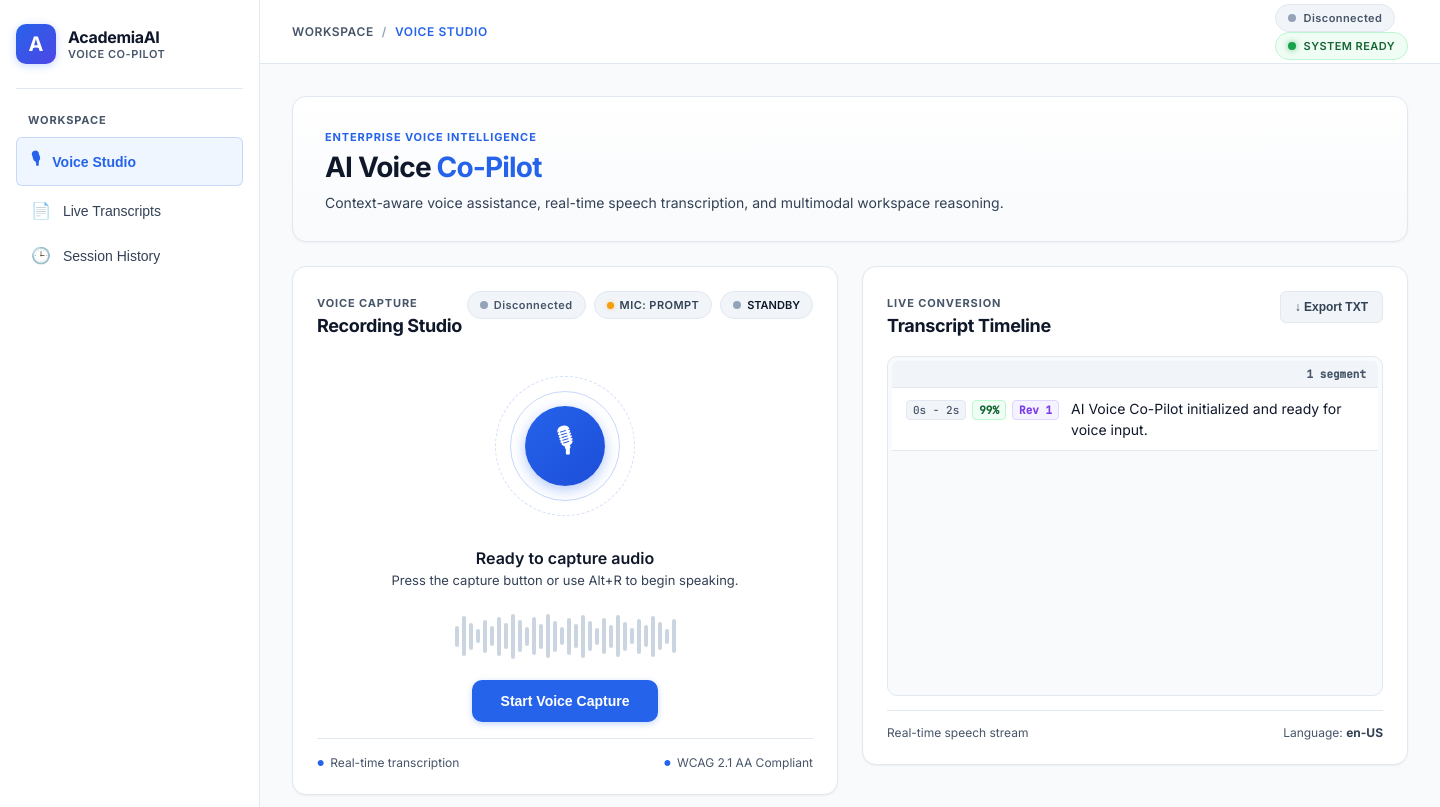
App Component › ignores workflow.step events belonging to a different plan_id
Click the button "Start Voice Capture" at (565, 701), box [472,680,658,722]
(page scrolled)
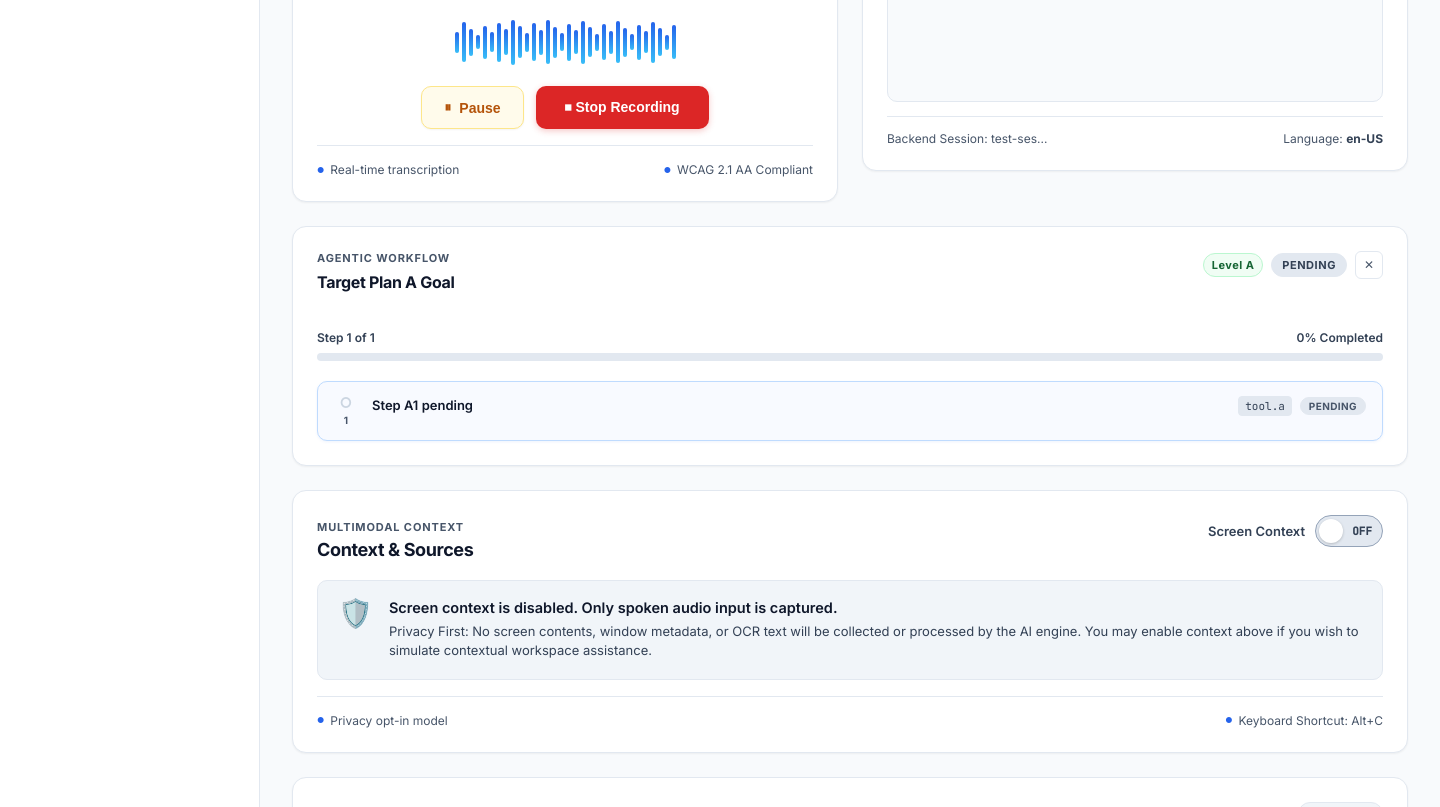
Now the heading "Target Plan A Goal" is shown, box [317,271,454,294]
Now the message named "Step 1 status: pending" is shown, box [1300,397,1366,415]
